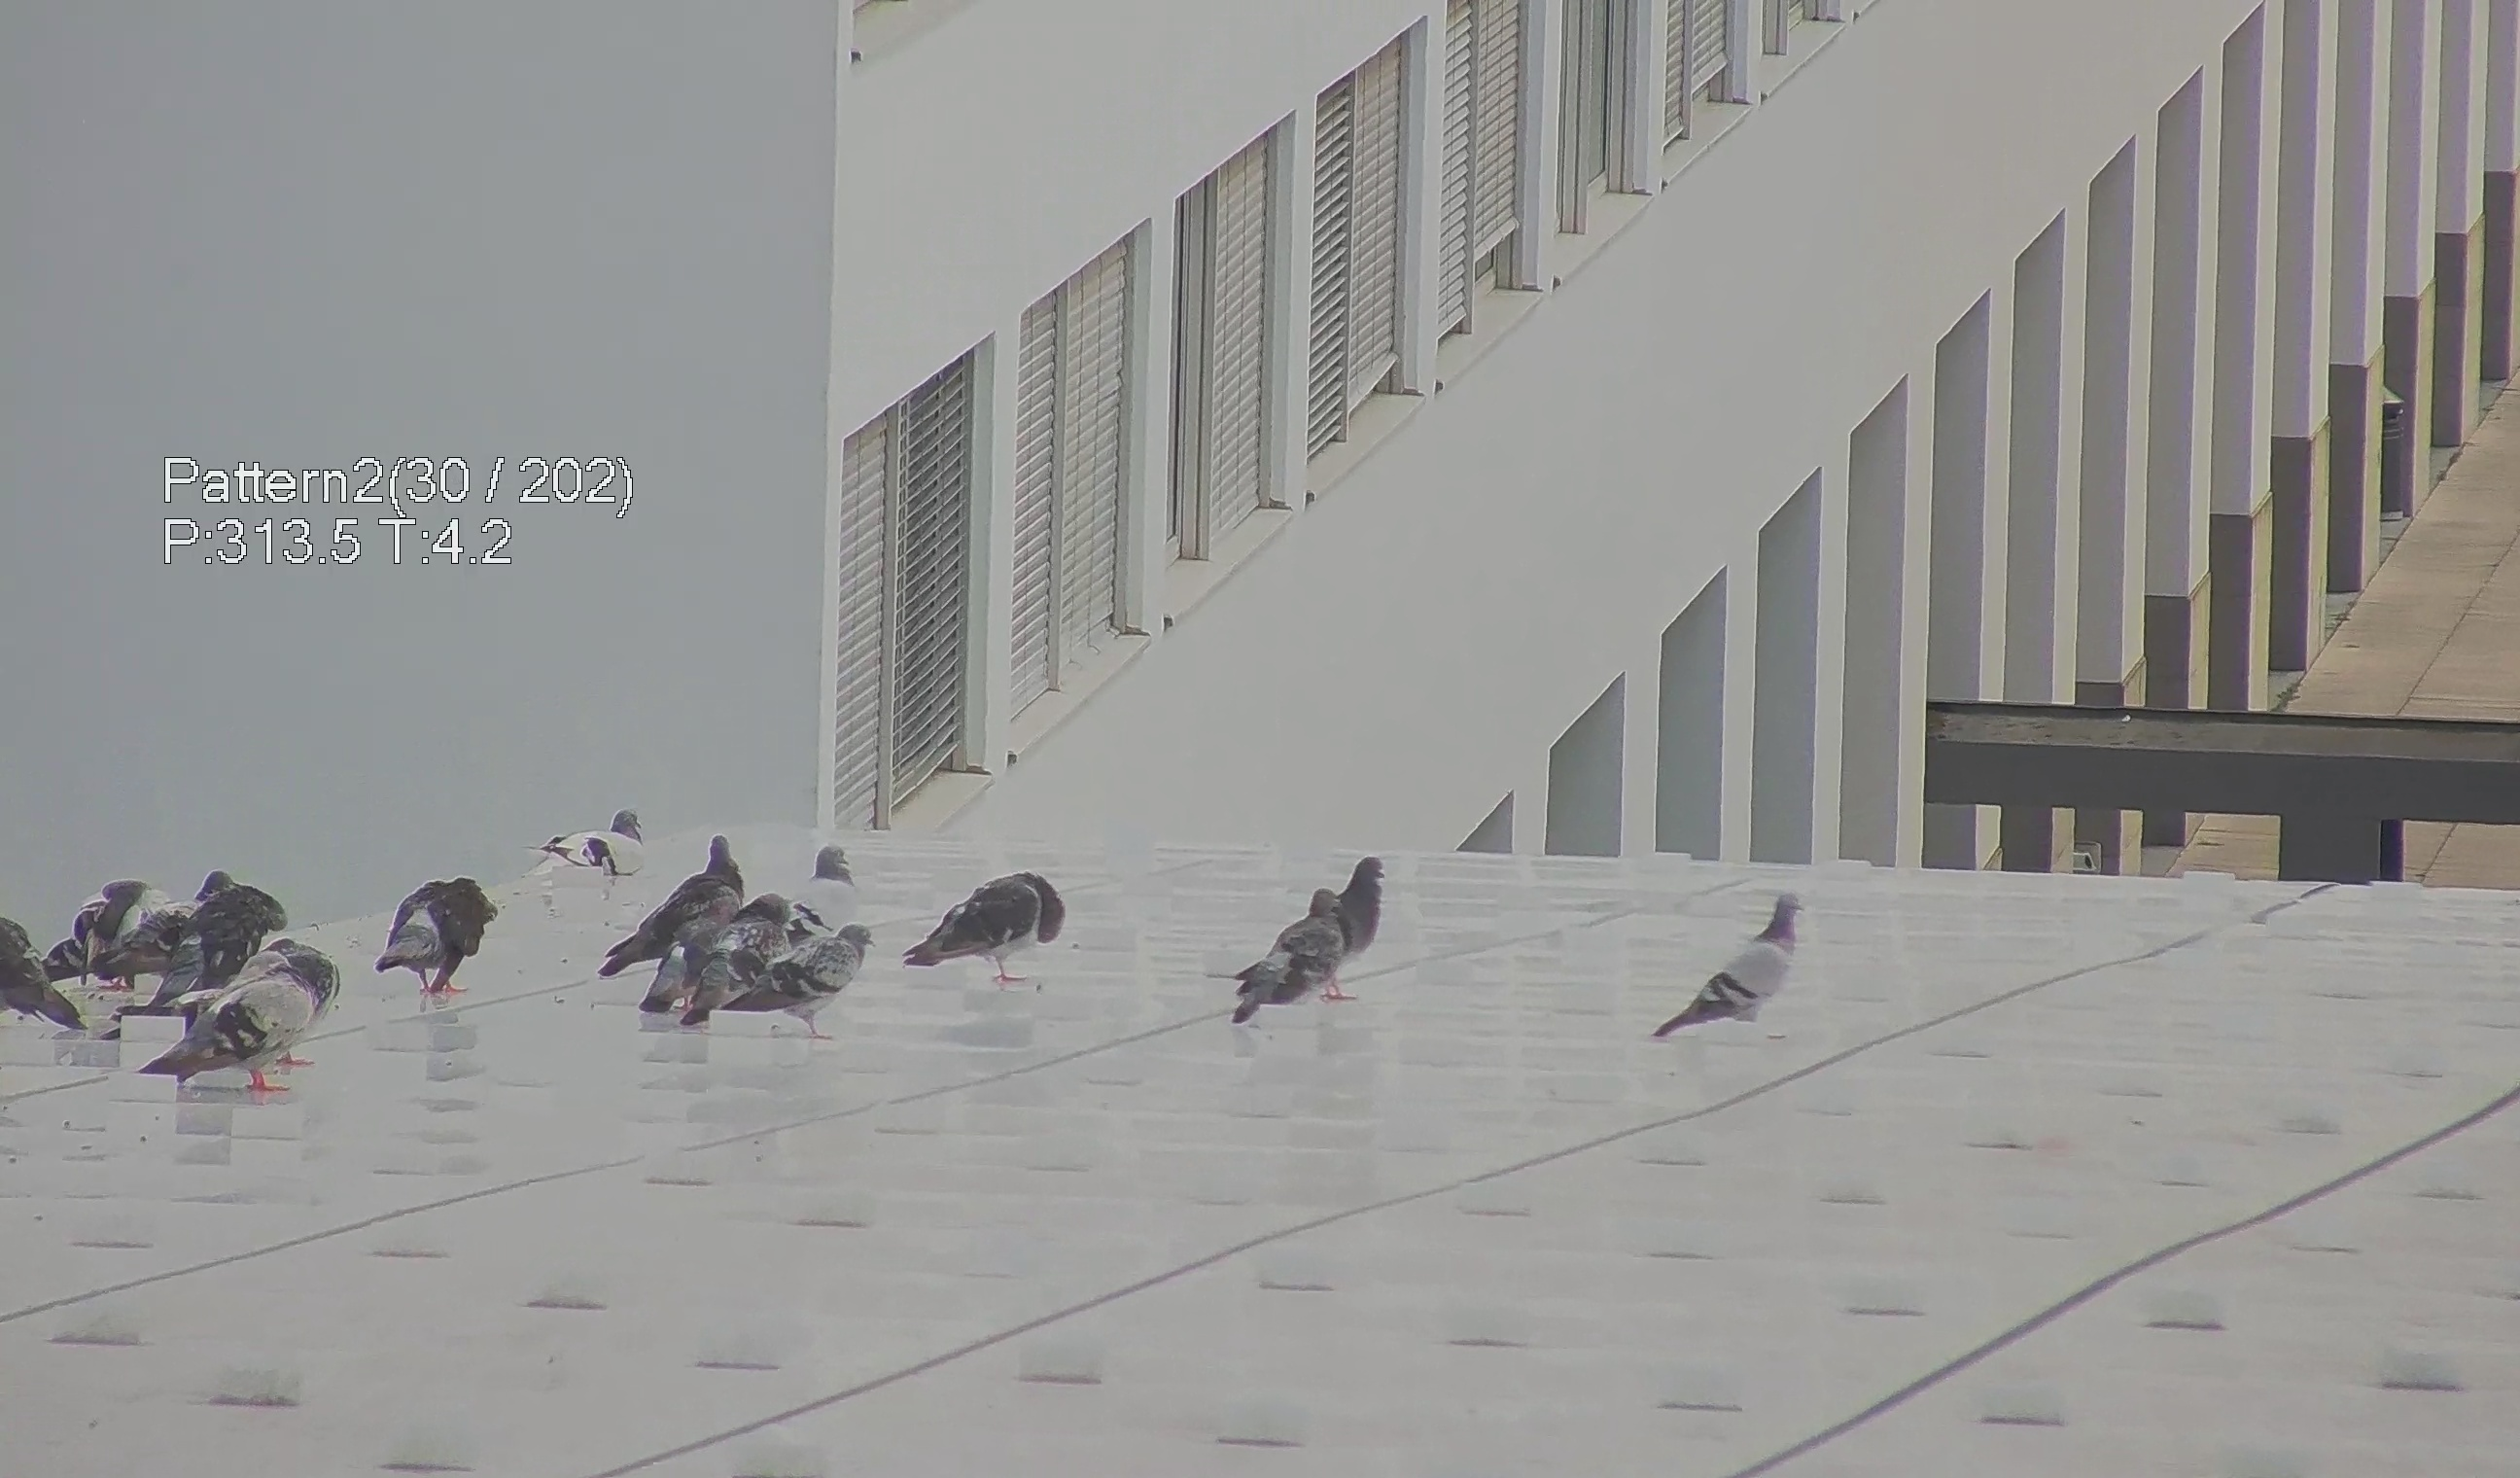Pigeon: (153, 927, 350, 1105), (1657, 890, 1834, 1054), (638, 890, 788, 1036), (598, 834, 751, 977), (906, 860, 1069, 987), (1220, 880, 1352, 1031), (730, 913, 881, 1042), (362, 860, 496, 1005), (151, 874, 273, 1015), (2, 918, 93, 1050), (521, 808, 645, 901), (84, 880, 181, 994), (1322, 845, 1398, 975), (779, 841, 867, 929)
